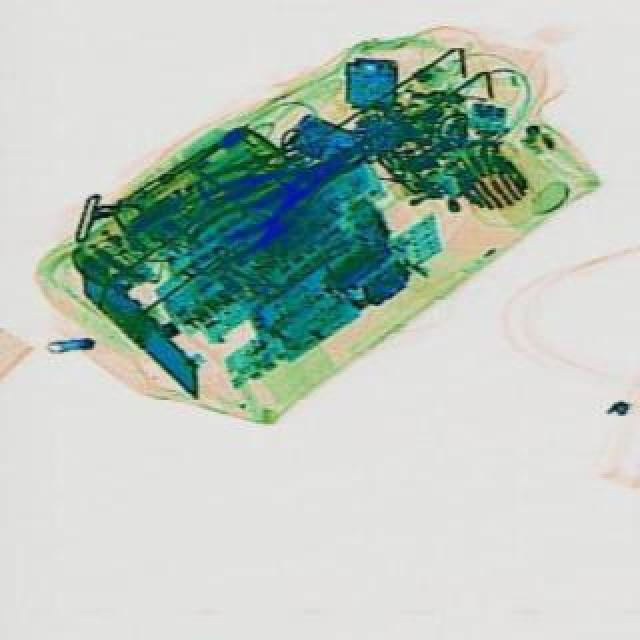wrench: (182, 130, 364, 274)
